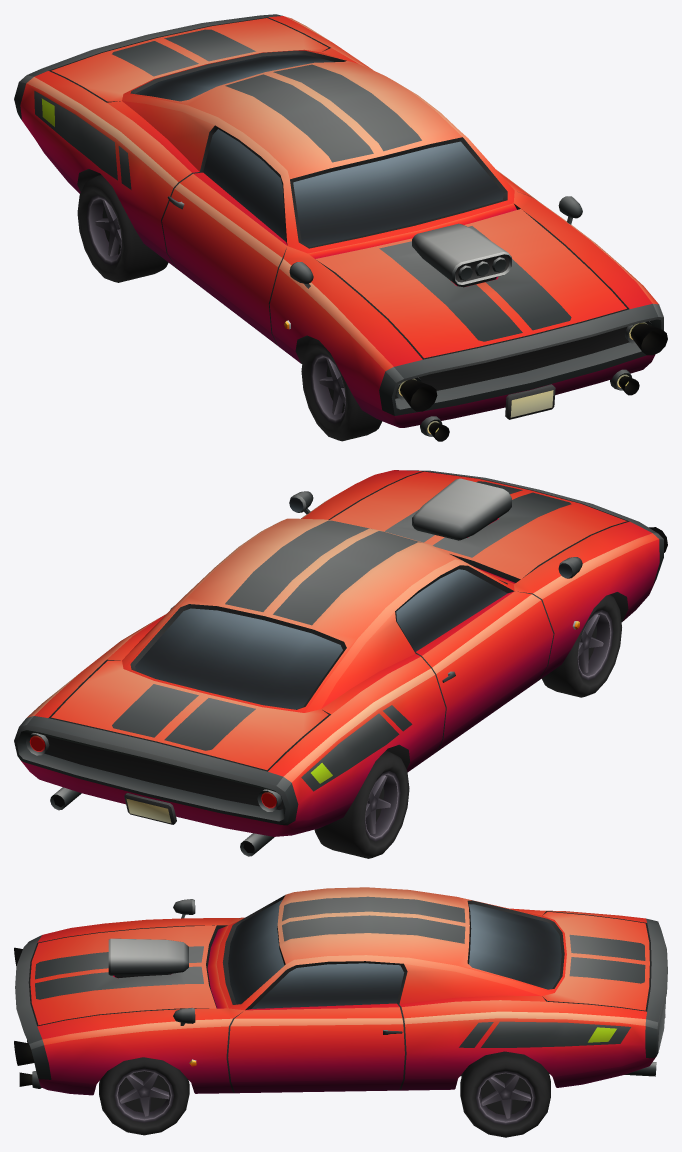
File: Car_23D.fbx
The picture shows the model from 3 angles, top to bottom: view 1: azimuth 30°, elevation 25°; view 2: azimuth 150°, elevation 25°; view 3: azimuth 270°, elevation 25°; orthographic projection. The views are drawn at different scales.
Parts seen in each view (by area): view 1: Car_23D, Car_23D_Wheel_R.R, Car_23D_Wheel_F.R, Car_23D_Rays; view 2: Car_23D, Car_23D_Wheel_R.R, Car_23D_Wheel_F.R; view 3: Car_23D, Car_23D_Wheel_R.L, Car_23D_Wheel_F.L, Car_23D_Rays.
Part boxes in pixels (box(x1,y1,x2,y2)): Car_23D: box(14, 14, 663, 436); Car_23D_Wheel_R.R: box(77, 175, 168, 282); Car_23D_Wheel_F.R: box(301, 338, 382, 441); Car_23D_Rays: box(400, 323, 667, 441); Car_23D: box(14, 470, 663, 856); Car_23D_Wheel_R.R: box(314, 751, 409, 858); Car_23D_Wheel_F.R: box(542, 594, 621, 697); Car_23D: box(15, 887, 667, 1095); Car_23D_Wheel_R.L: box(460, 1051, 550, 1137); Car_23D_Wheel_F.L: box(99, 1057, 189, 1135); Car_23D_Rays: box(14, 947, 34, 1086).
Bounding box in the file's own units: 259 × 173 × 606.
